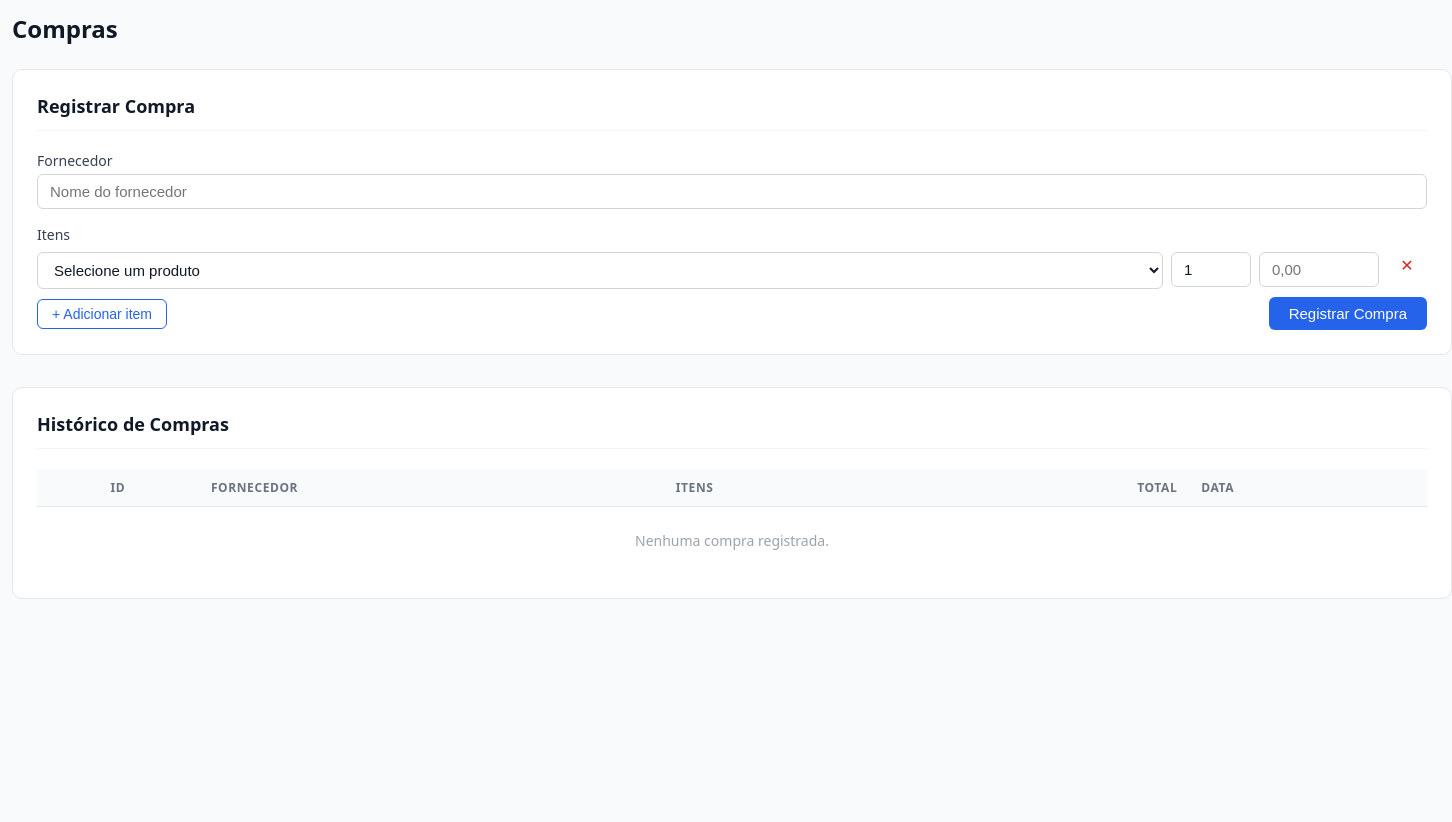
Test: ComprasView › exibe sucesso após registrar compra
Type "Fornecedor X" into the field with test id "input-fornecedor" at (732,192), box 37,174 -> 1427,209
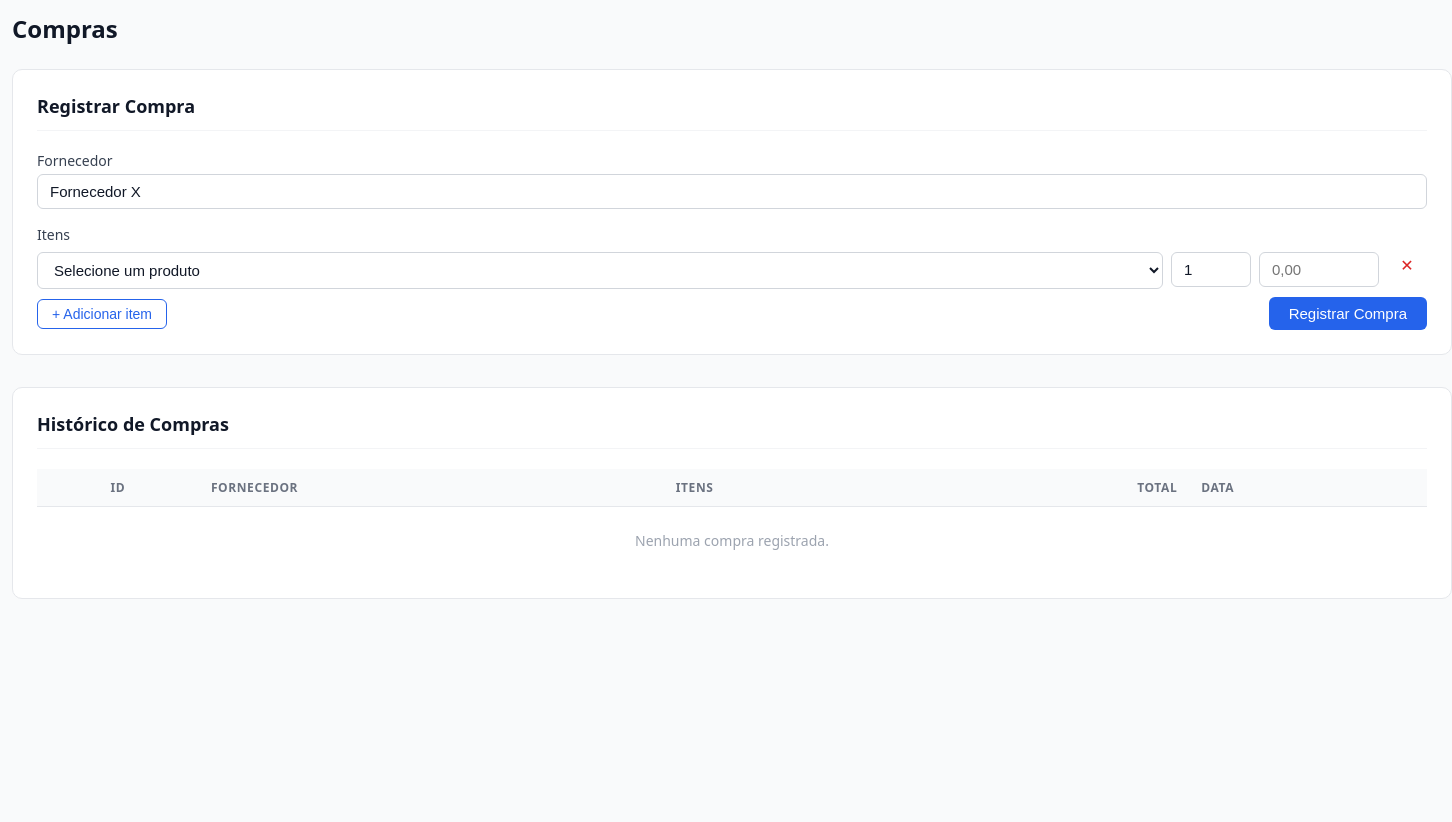
Select "Produto A" in the dropdown with test id "select-produto" at (600,270), box 37,252 -> 1163,289
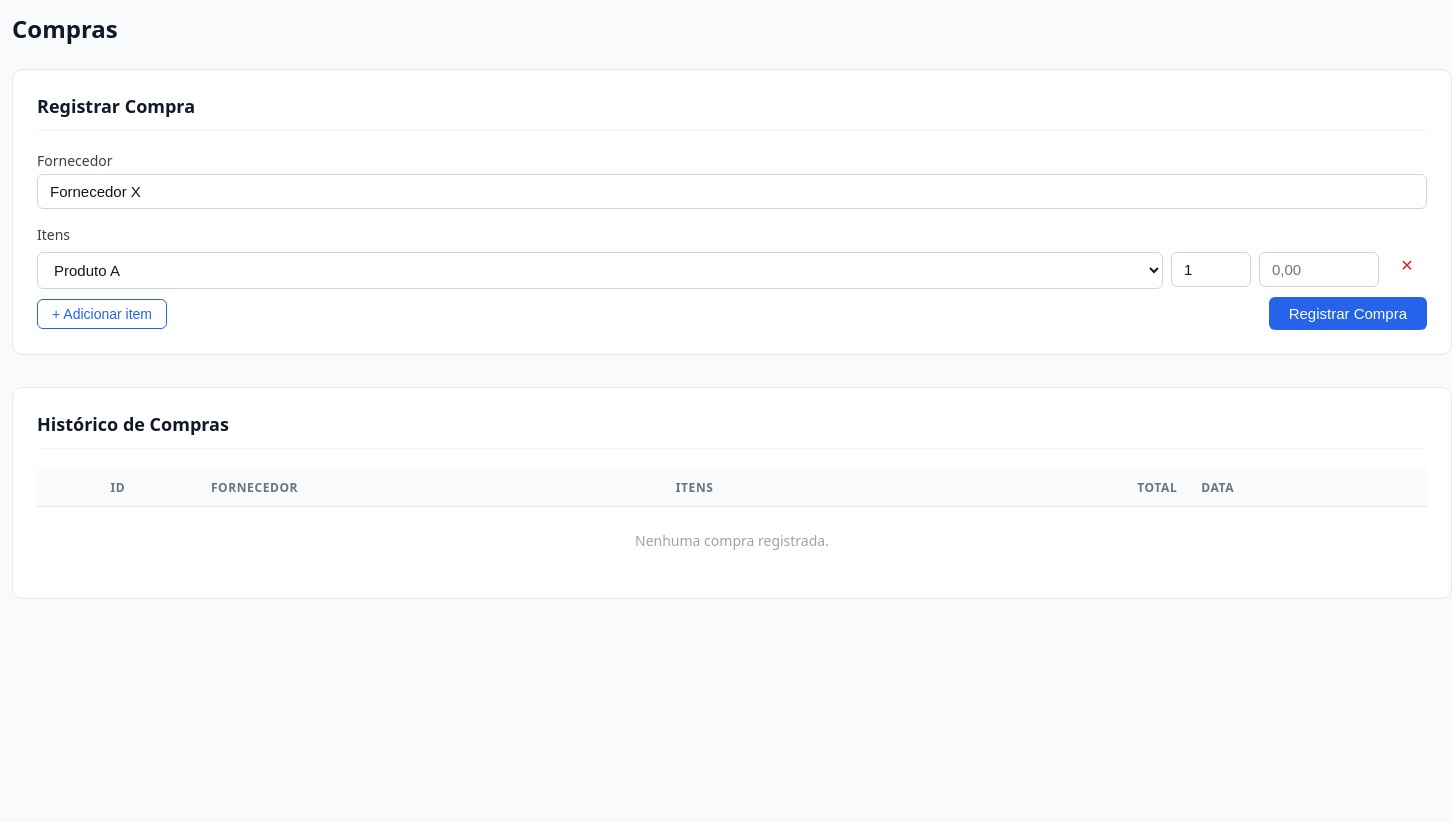
Replace the text in the number field with test id "input-quantidade" with "2" at (1211,270), box 1171,252 -> 1251,287
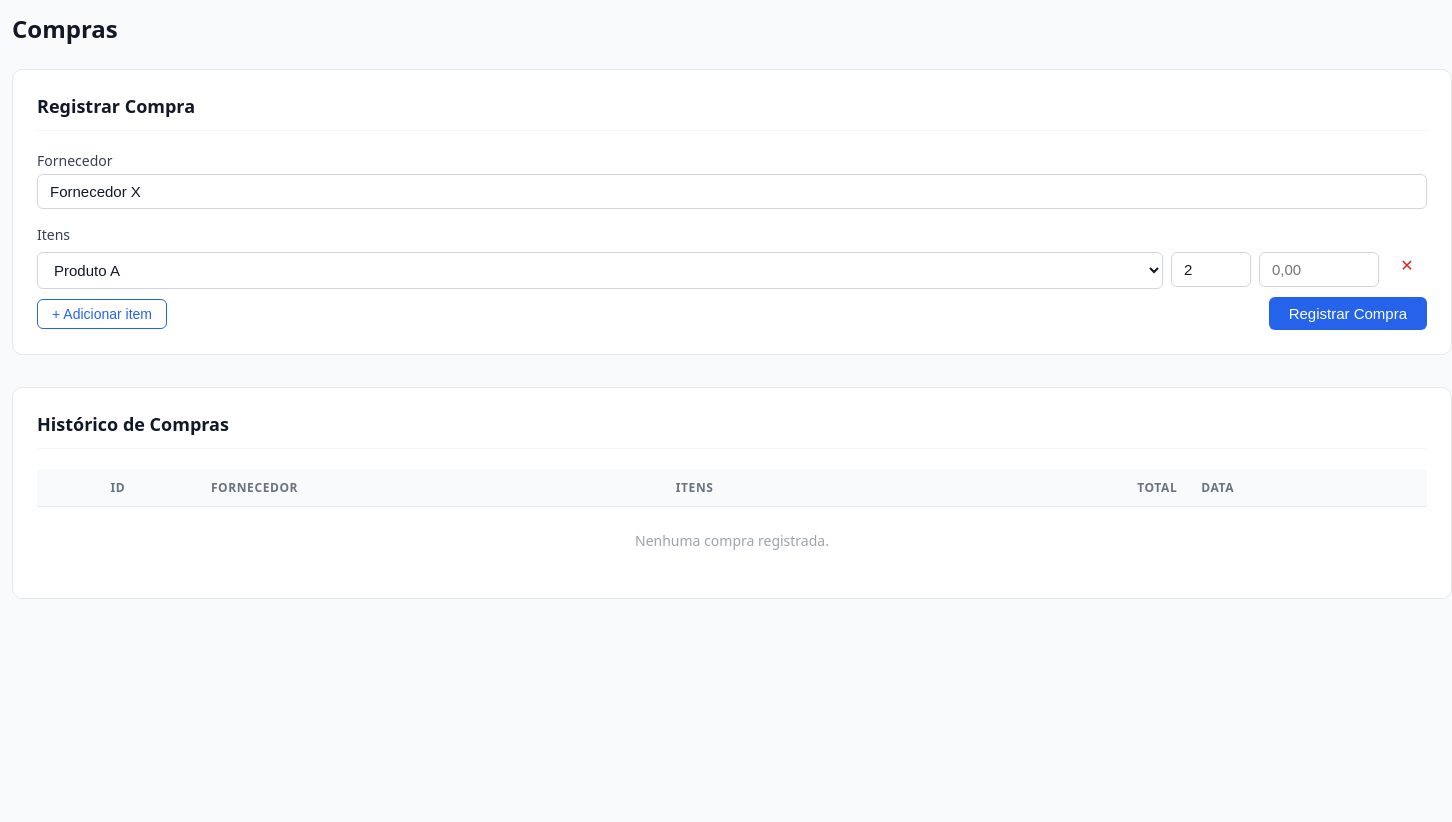
Type "1000" into the field with test id "input-preco-venda" at (1319,270), box 1259,252 -> 1379,287
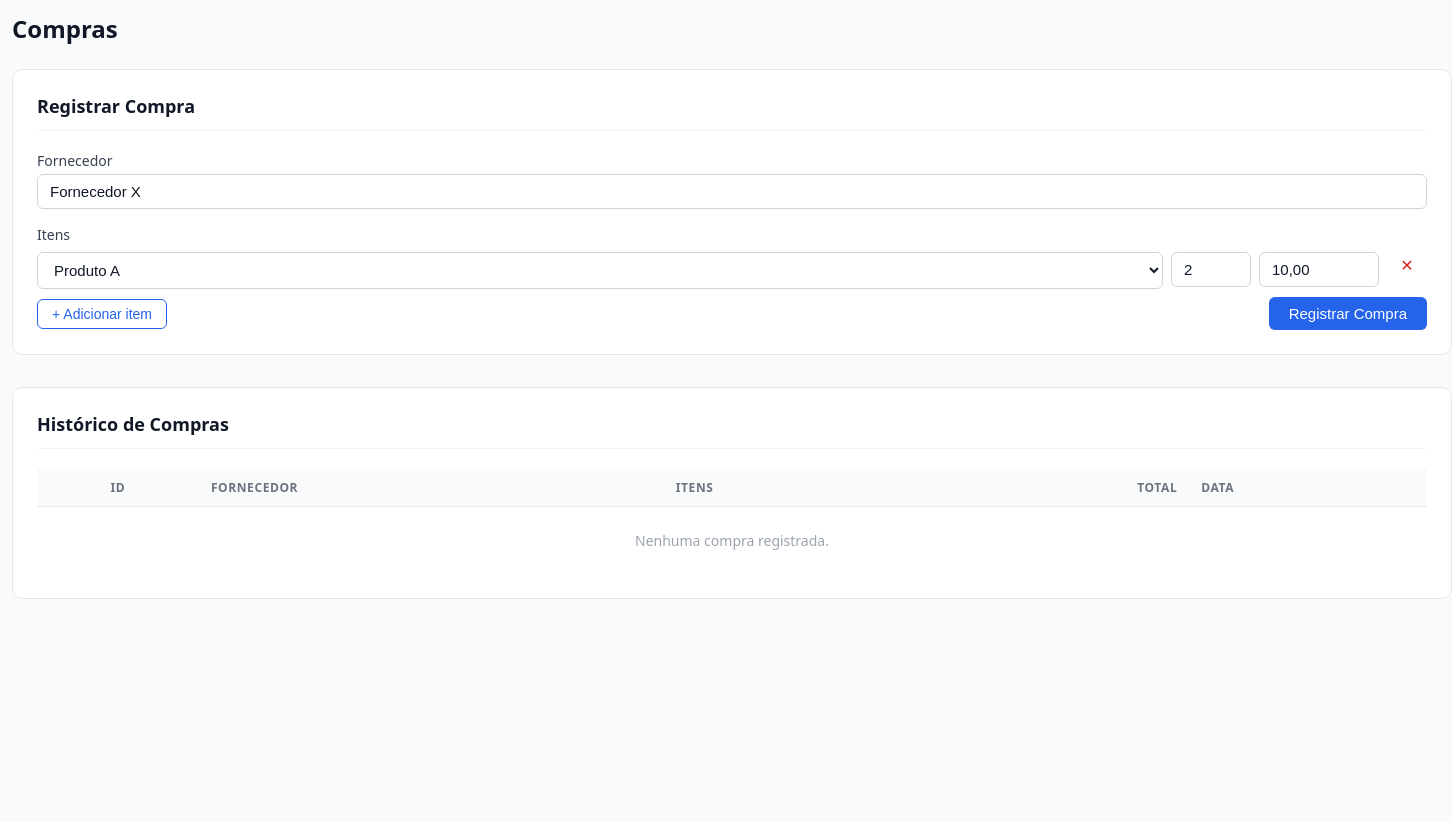
Click the button with test id "btn-registrar" at (1348,314), box 1269,297 -> 1427,330
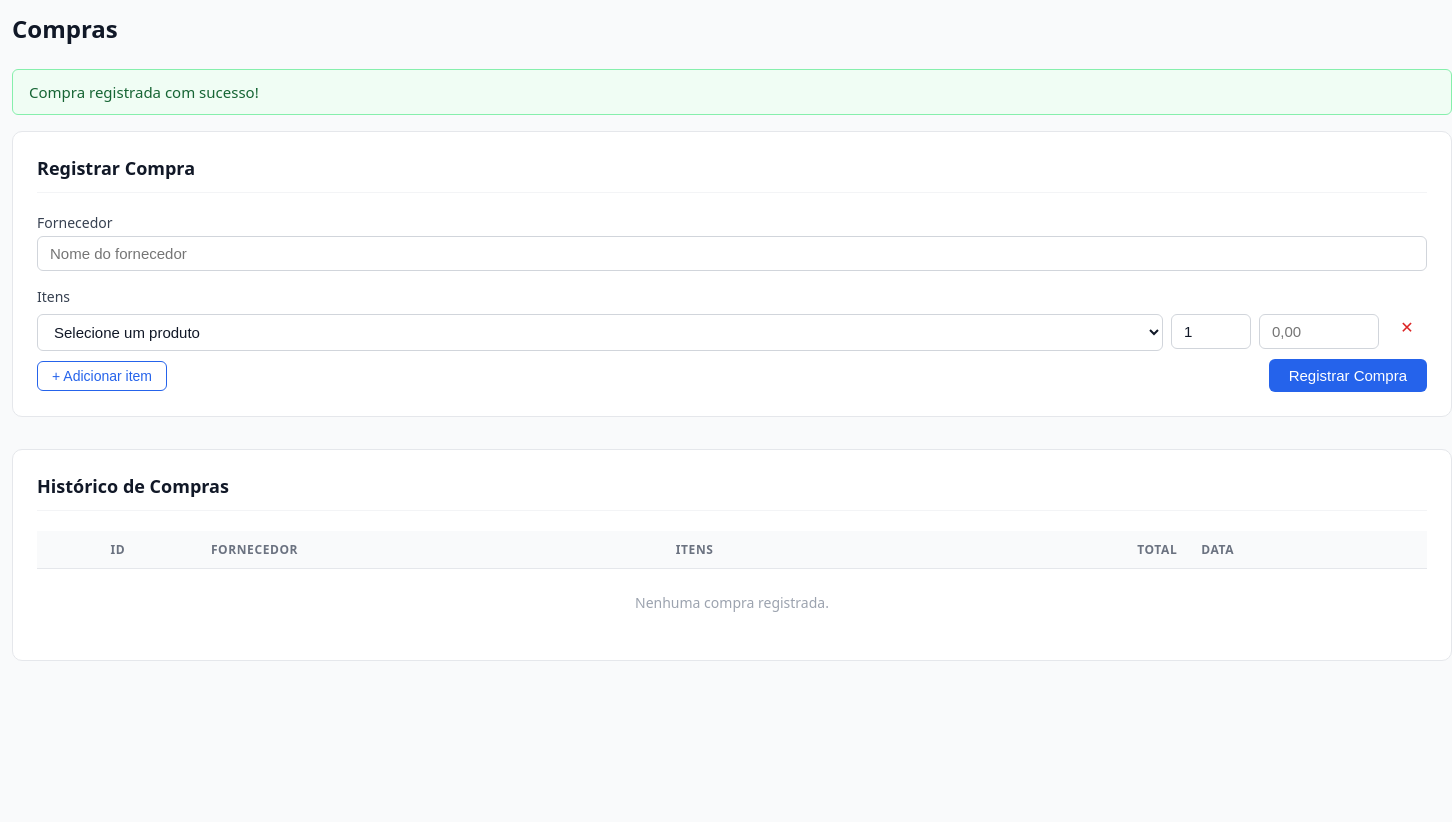
Now the text "sucesso" is shown, box 29,82 -> 259,102
